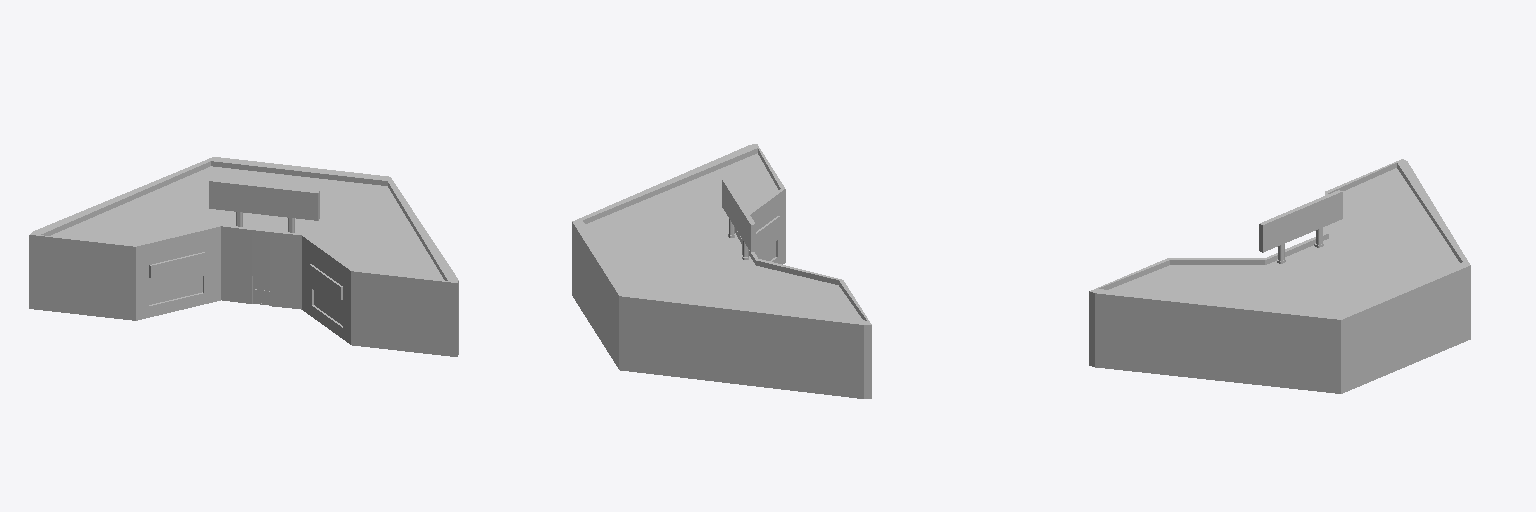
File: Diner Storefront.obj
The picture shows the model from 3 angles: view 1: azimuth 30°, elevation 25°; view 2: azimuth 150°, elevation 25°; view 3: azimuth 270°, elevation 25°; orthographic projection.
Visible parts, largest first — view 1: polySurface7, Roof_Signs_and_Window3, Big_Sign; view 2: Roof_Signs_and_Window3, polySurface7, Big_Sign; view 3: polySurface7, Roof_Signs_and_Window3, Big_Sign.
Boxes of the visible parts, x1,y1,x2,y2 form: polySurface7: [29, 226, 458, 356]; Roof_Signs_and_Window3: [30, 157, 458, 327]; Big_Sign: [209, 179, 319, 232]; Roof_Signs_and_Window3: [572, 144, 871, 324]; polySurface7: [572, 189, 871, 398]; Big_Sign: [722, 178, 755, 259]; polySurface7: [1089, 265, 1470, 393]; Roof_Signs_and_Window3: [1090, 159, 1469, 319]; Big_Sign: [1259, 190, 1342, 263].
Bounding box in the file's own units: 40.07 × 13.35 × 40.07.